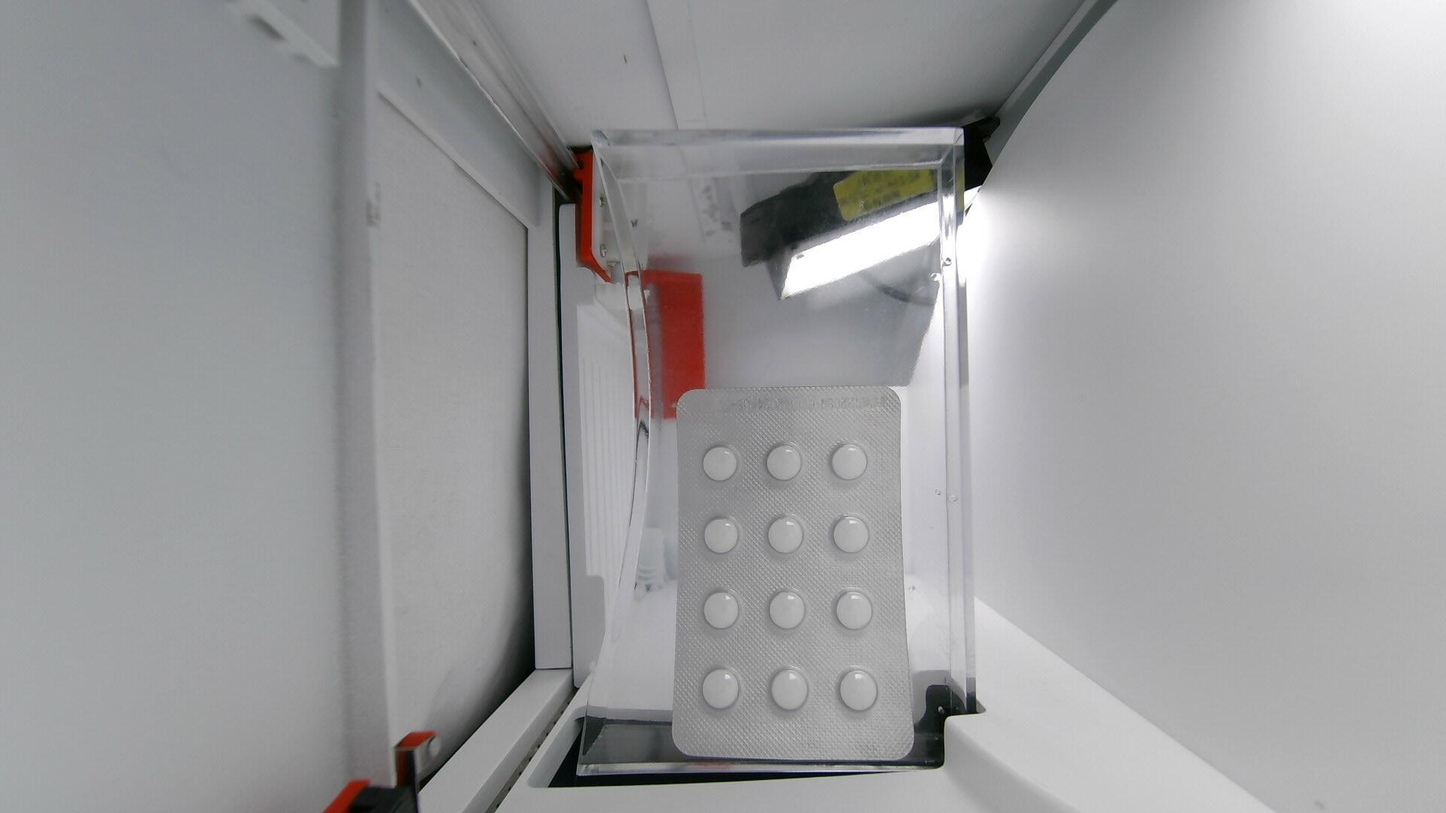Light Front: (672, 386, 917, 763)
Pill Front: (835, 666, 889, 712), (700, 667, 743, 711), (832, 589, 877, 631), (701, 588, 746, 629), (769, 666, 808, 711), (702, 516, 748, 554), (767, 590, 807, 632), (828, 516, 871, 553), (765, 443, 803, 481), (702, 445, 739, 481), (767, 516, 803, 553), (831, 443, 867, 479)
